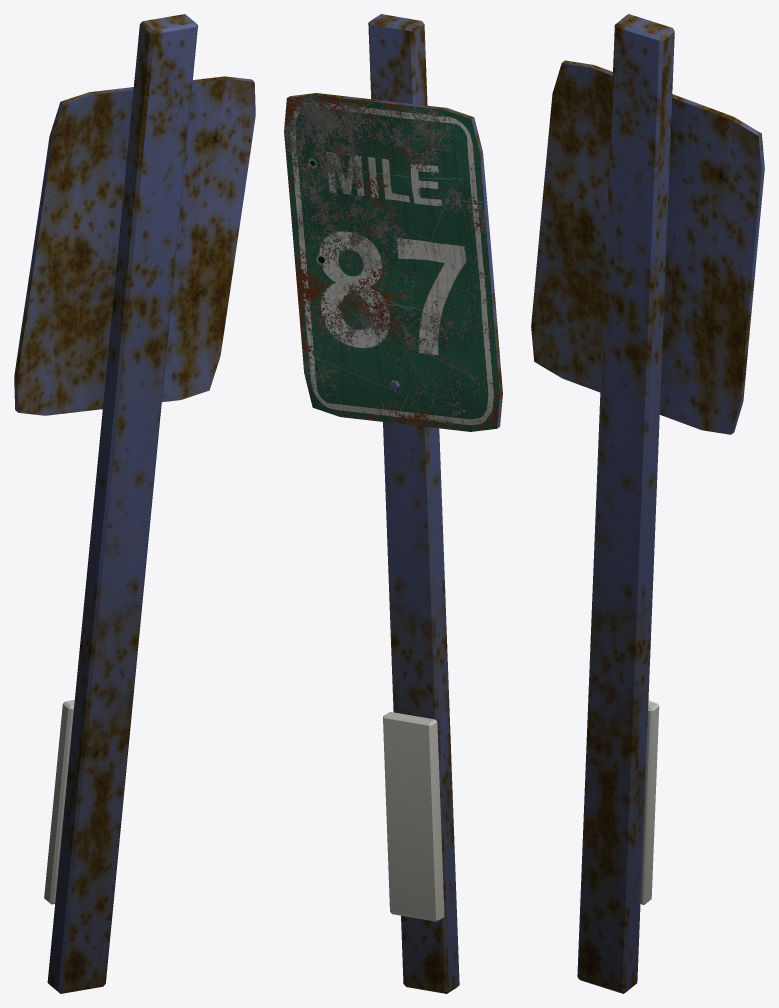
The model's file is mile_marker.glb.
3 renders of one model, left to right at view 1: azimuth 30°, elevation 25°; view 2: azimuth 150°, elevation 25°; view 3: azimuth 330°, elevation 25°, orthographic. The views are drawn at different scales.
Visible parts, largest first — view 1: mile_marker_galvanized, mile_marker_reflective_white; view 2: mile_marker_mile_marker, mile_marker_galvanized, mile_marker_reflective_white; view 3: mile_marker_galvanized, mile_marker_reflective_white.
Boxes of the visible parts, <box> form: mile_marker_galvanized: <box>14,14,255,993</box>; mile_marker_reflective_white: <box>44,700,74,904</box>; mile_marker_mile_marker: <box>284,95,499,431</box>; mile_marker_galvanized: <box>287,14,502,993</box>; mile_marker_reflective_white: <box>383,712,444,921</box>; mile_marker_galvanized: <box>531,14,764,993</box>; mile_marker_reflective_white: <box>640,700,659,904</box>.
Size of the model in its own units: 0.3389 by 1.36 by 0.1225.
3 materials, 2 textured.
